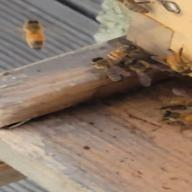Bee: (14, 18, 57, 50), (79, 46, 147, 66)
